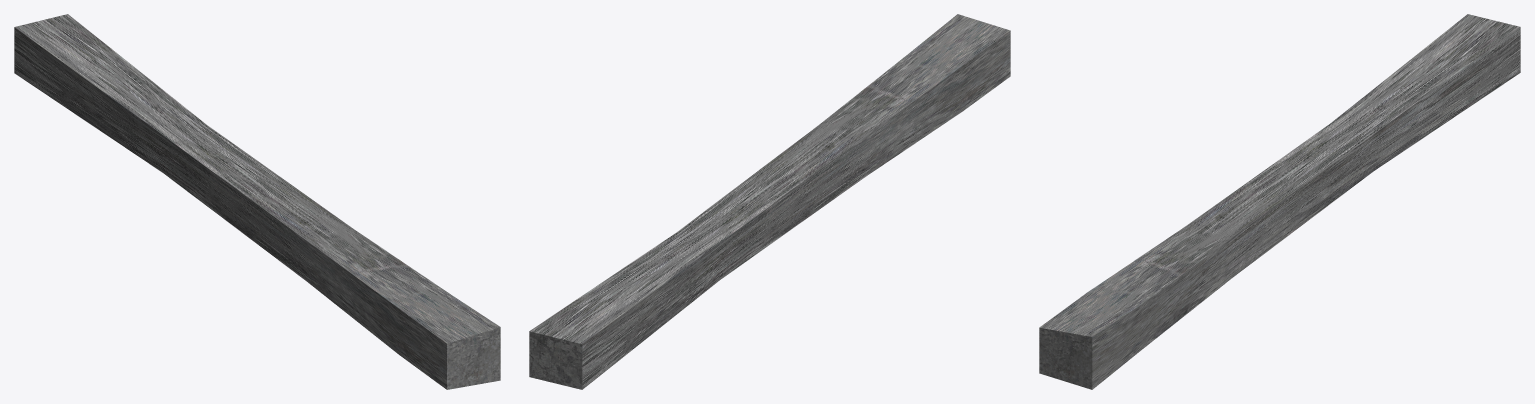
File: metalbar.fbx
The picture shows the model from 3 angles, left to right: view 1: azimuth 30°, elevation 25°; view 2: azimuth 150°, elevation 25°; view 3: azimuth 330°, elevation 25°; orthographic projection.
Visible parts, largest first — view 1: pCube11; view 2: pCube11; view 3: pCube11.
Boxes of the visible parts, x1,y1,x2,y2 form: pCube11: [14, 14, 500, 389]; pCube11: [529, 14, 1010, 389]; pCube11: [1039, 14, 1520, 389].
Size of the model in its own units: 3.46 by 3.3 by 48.43.
Materials: 1 (1 with a texture image).
